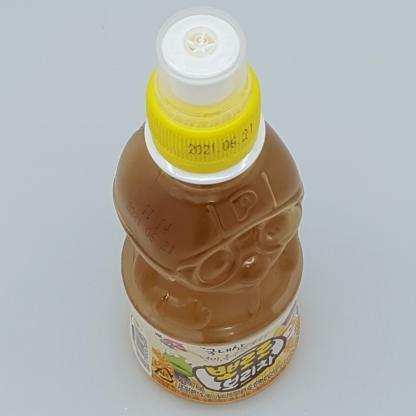--------220ML: (111, 5, 306, 405)
